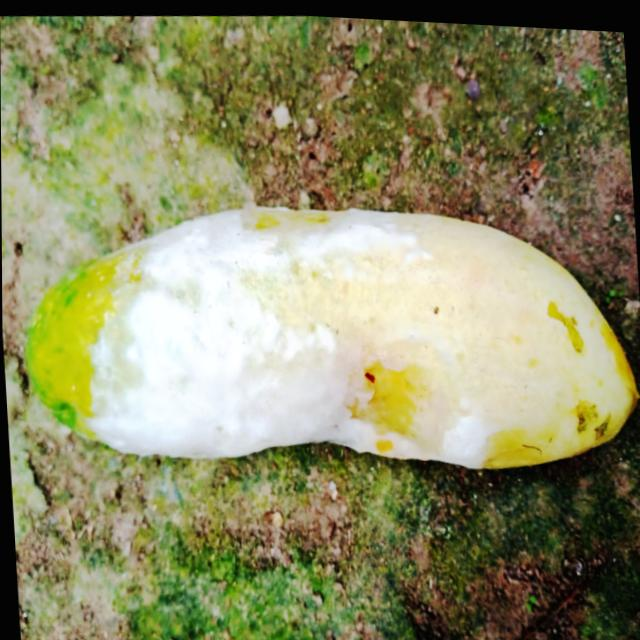Pythium-Fruit-Rot: (73, 181, 499, 493)
